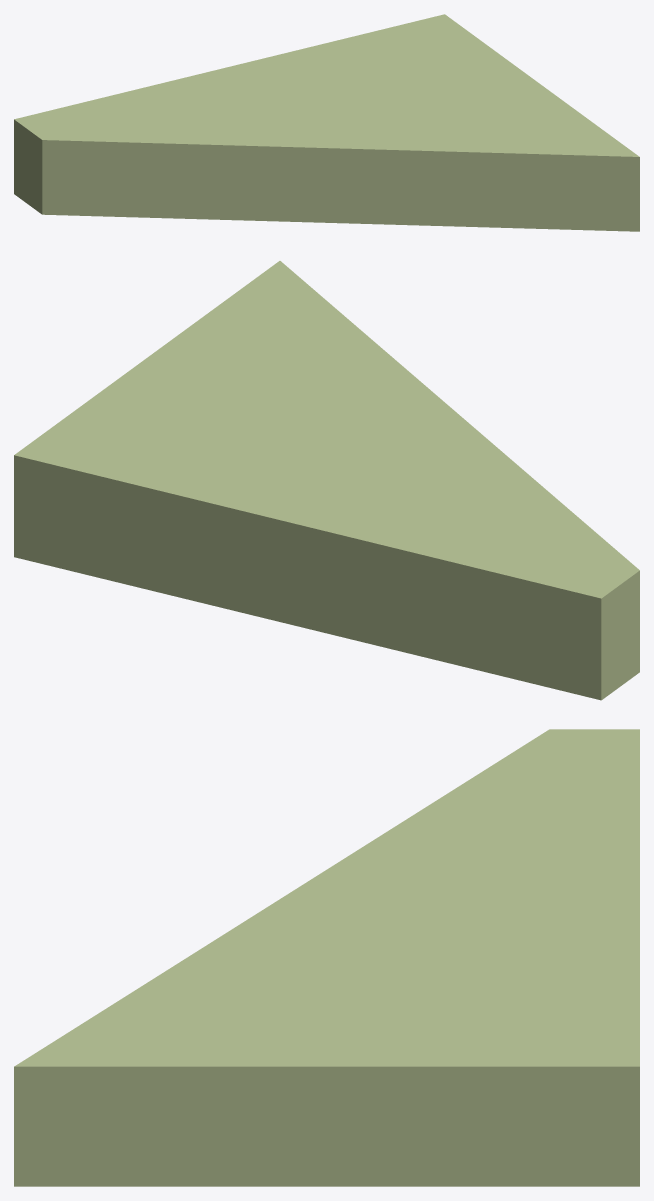
File: ground_4.gltf
3 views of the same model, one above another, from view 1: azimuth 30°, elevation 25°; view 2: azimuth 150°, elevation 25°; view 3: azimuth 270°, elevation 25° (orthographic). The views are drawn at different scales.
Parts seen in each view (by area): view 1: o_ground_4; view 2: o_ground_4; view 3: o_ground_4.
Boxes of the visible parts, box(x1,y1,x2,y2) form: o_ground_4: box(14, 14, 639, 231); o_ground_4: box(14, 261, 639, 700); o_ground_4: box(14, 729, 639, 1186).
Size of the model in its own units: 14.71 by 2.44 by 11.54.
